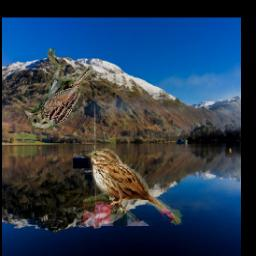Sparrow: (84, 147, 184, 227), (23, 48, 92, 129)
